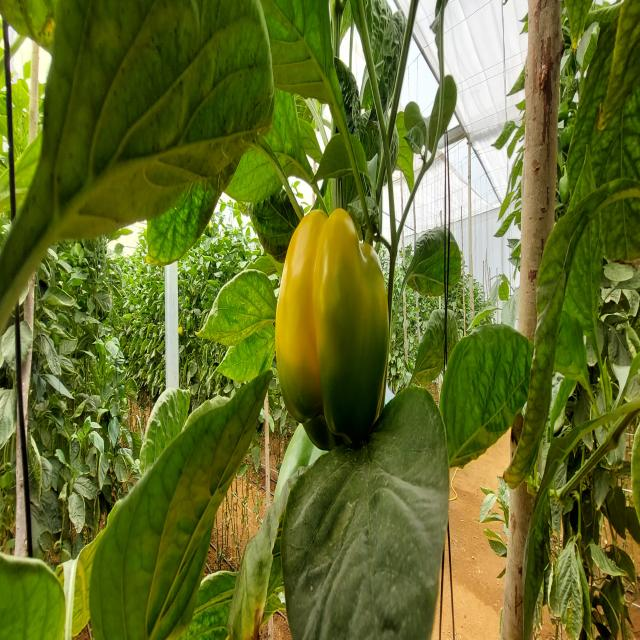GreenishYellow--Can-be-Harvested: (254, 192, 399, 476)
